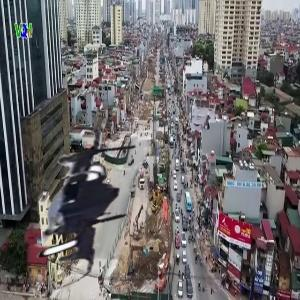drone: (1, 123, 167, 289)
